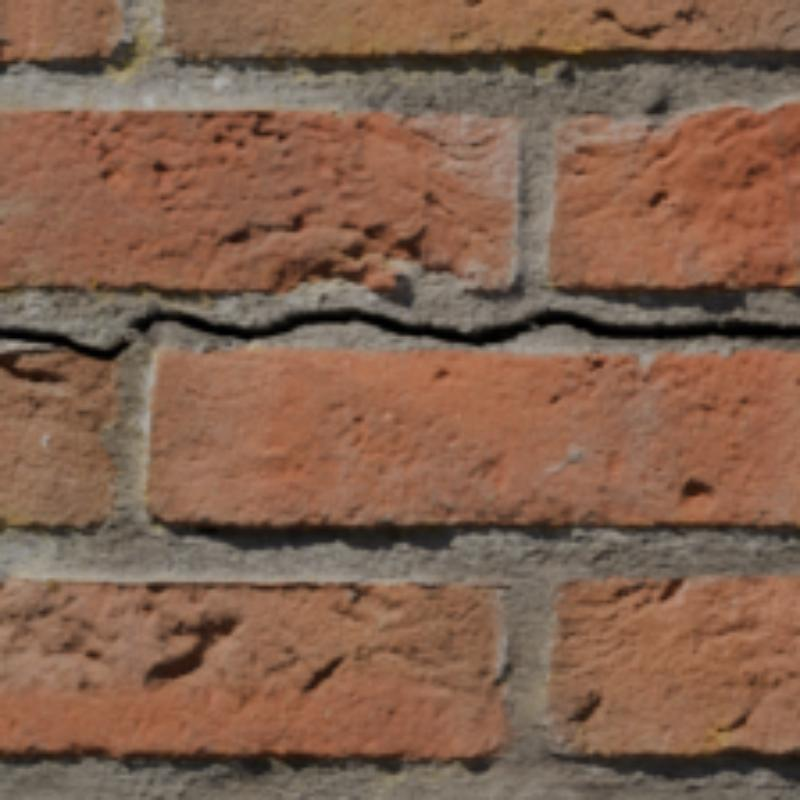pothole: (0, 307, 796, 361)
